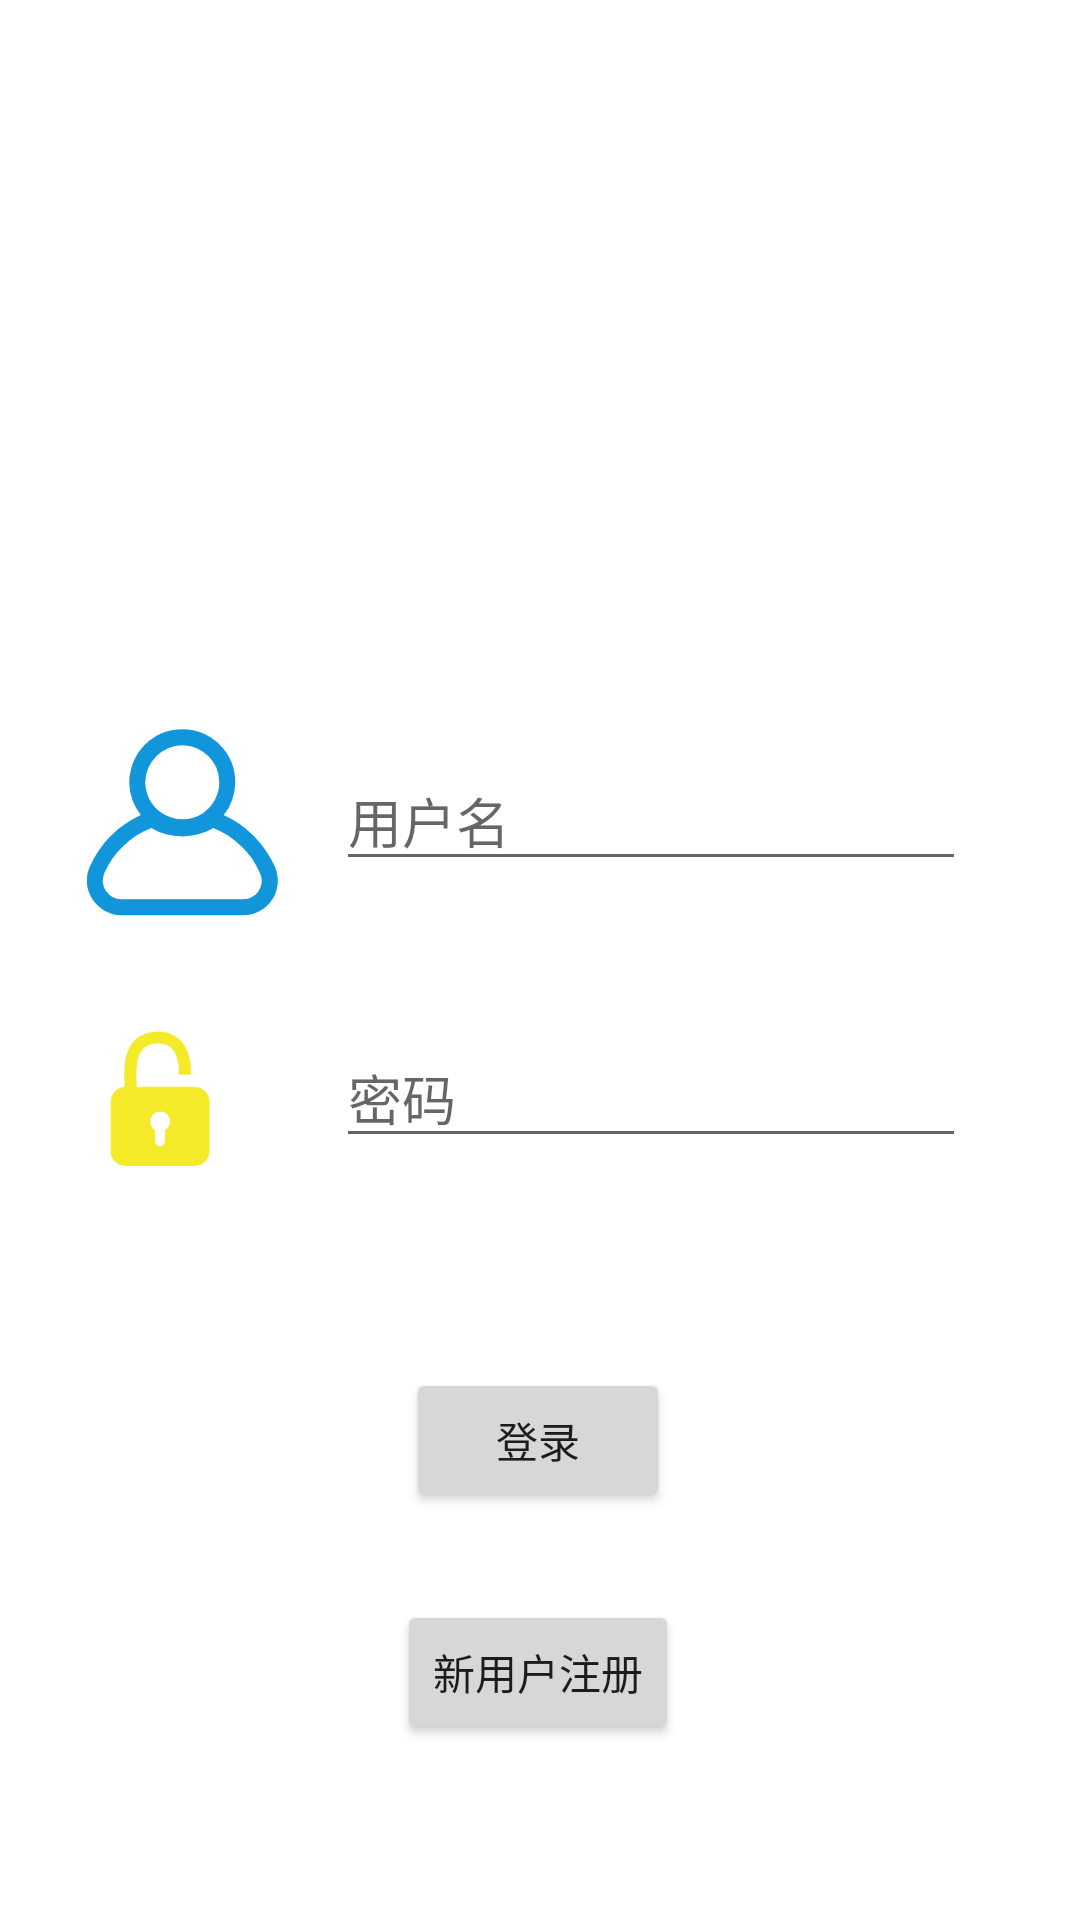

Icon click points for this 1080x1920 phone screenshot, format (x,y):
account id: (182,822)
account password: (160,1098)
